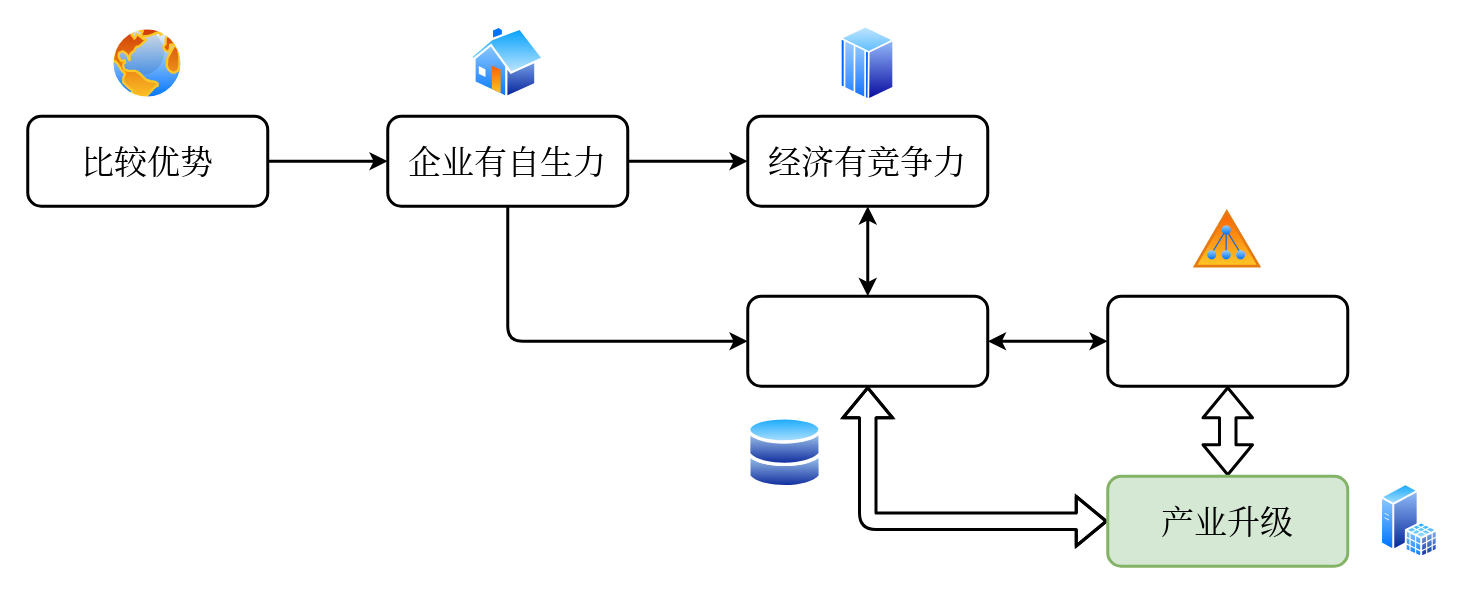
The diagram is 1464 pixels wide and 593 high, and some of its shapes have lost their labels. Each missing label, with the centre of its shape:
要素禀赋升级: the point at 1227,340
资本积累: the point at 867,340
